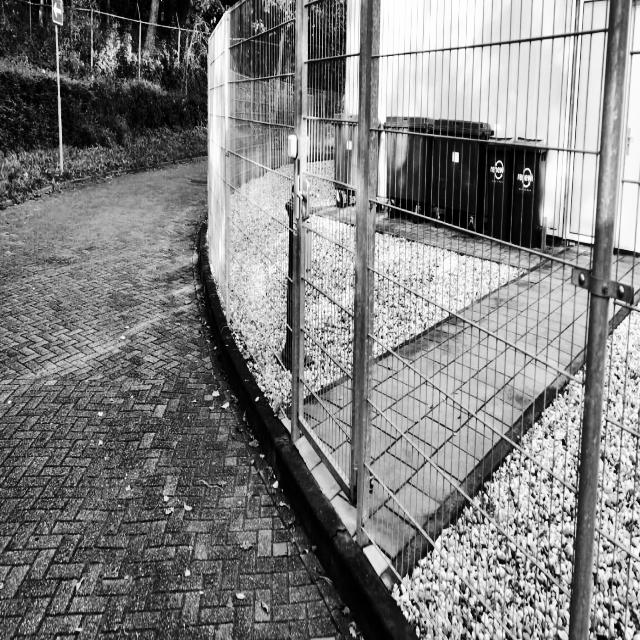fences: (319, 0, 638, 640), (198, 0, 306, 359)
